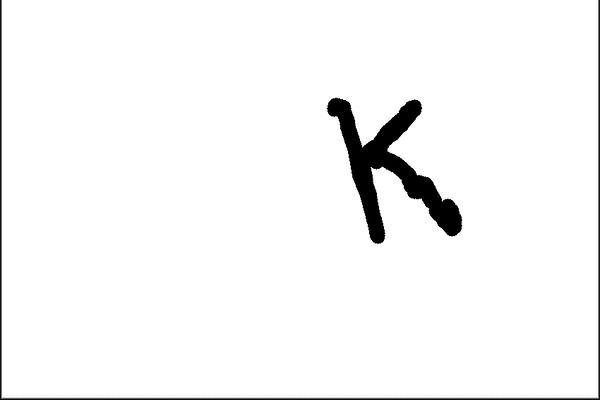K: (319, 85, 467, 250)
